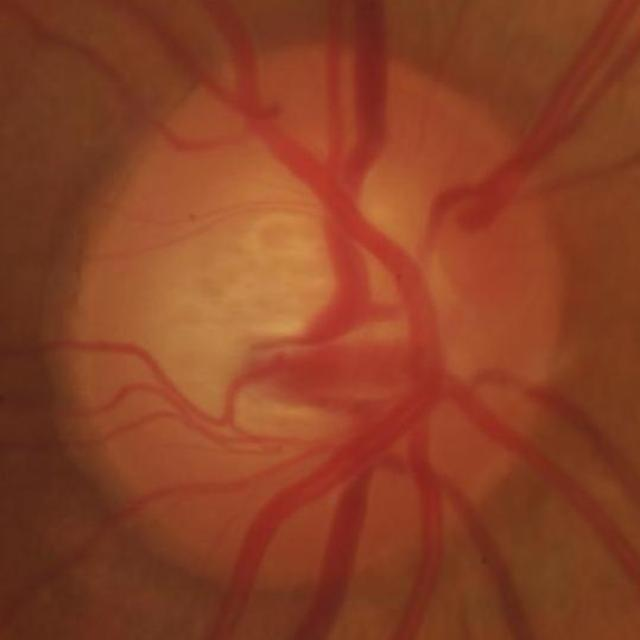OC: (165, 194, 441, 439)
OD: (49, 53, 562, 580)
